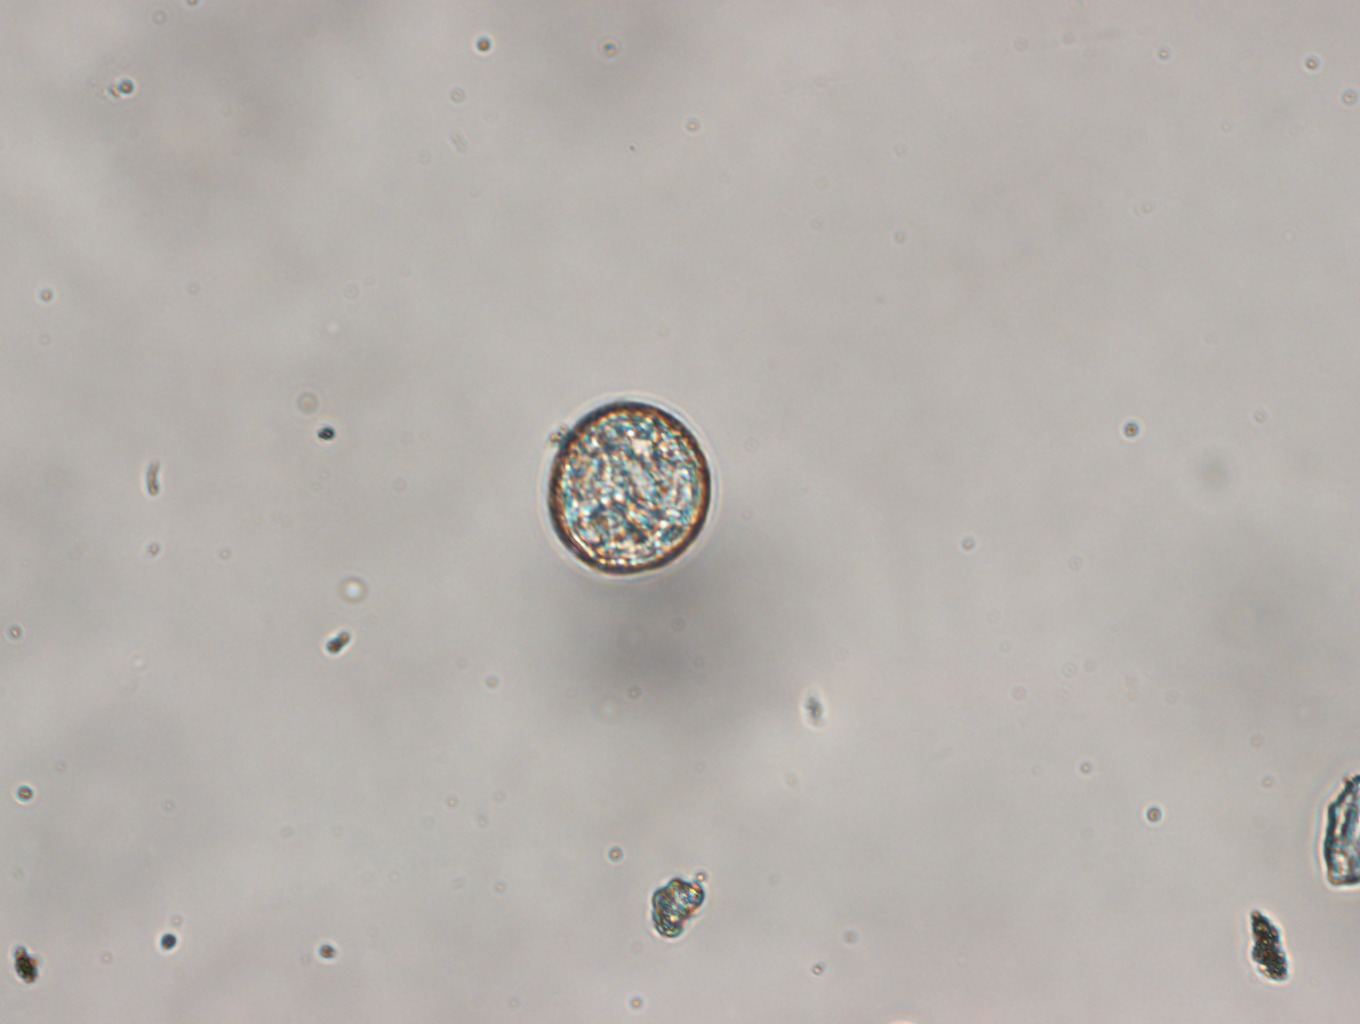coscinodiscus: (545, 399, 713, 575)
